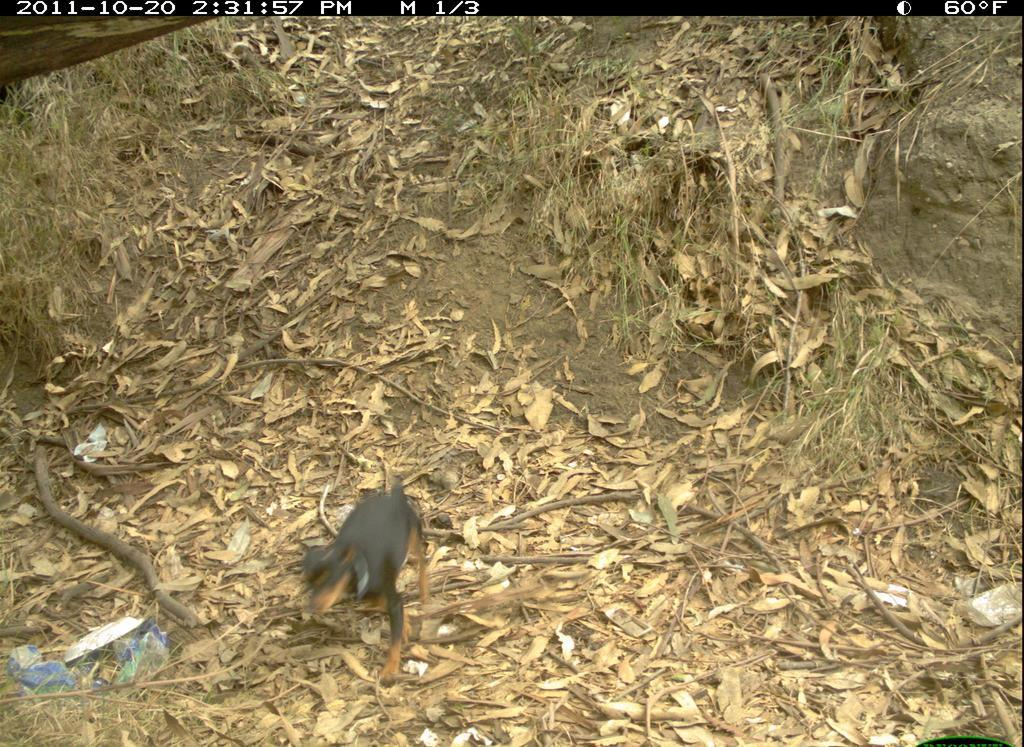dog: (291, 470, 464, 690)
